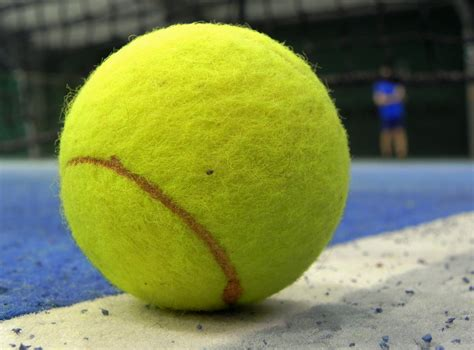tennis_ball: (57, 22, 352, 312)
